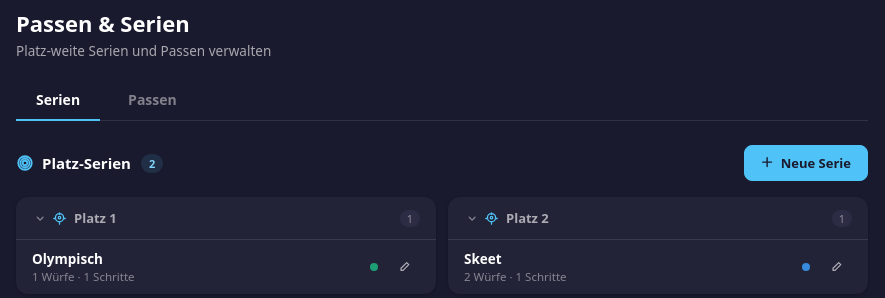
PassenAdminView — Passen tab › shows Passen-Vorlagen header with count badge
What coordinates should you click on to do the following:
click the button with class "tab-btn" showing "Passen"
I would click on:
 (152, 100)
Its box is [108,80,197,121].
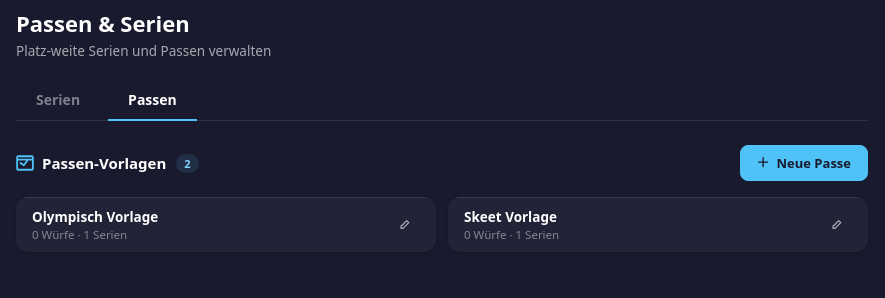
Expected: the text "2" is shown, [176,154,199,172]
Now the text "Passen-Vorlagen" is shown, box [16,153,166,173]
